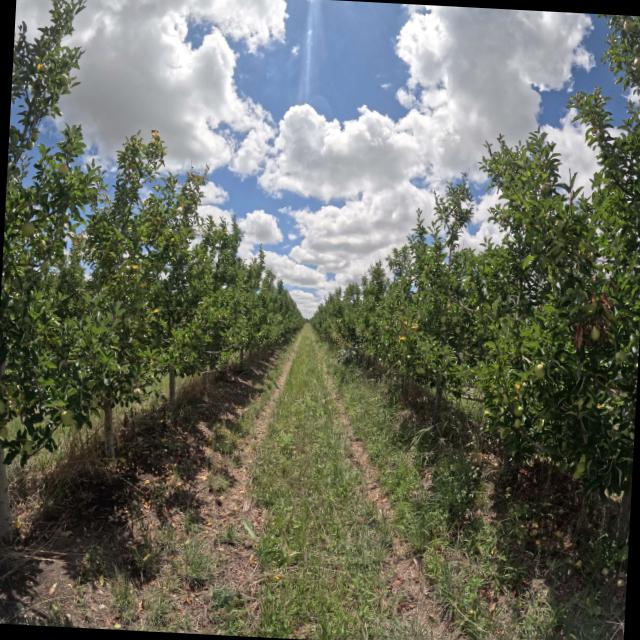-FireBlight-: (574, 315, 611, 351), (599, 292, 614, 321), (586, 293, 595, 305), (610, 281, 617, 294), (590, 273, 598, 282)
